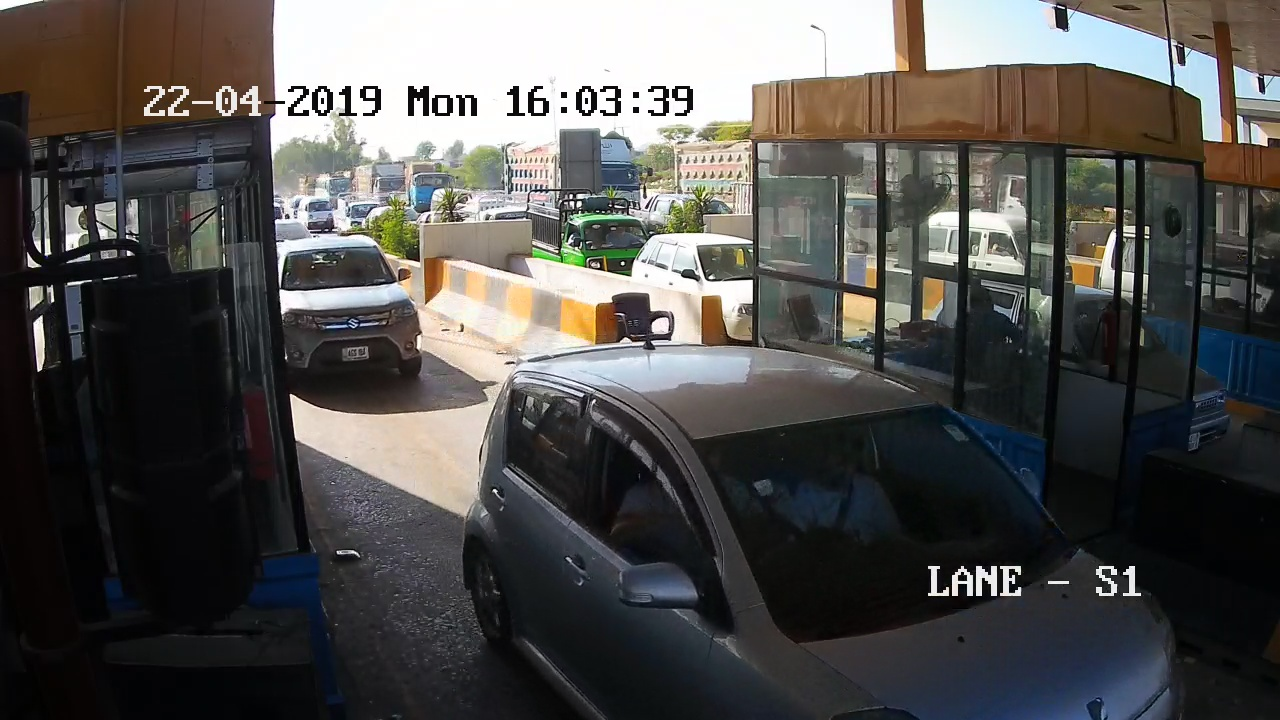Number Plate (Car): (339, 346, 369, 362)
